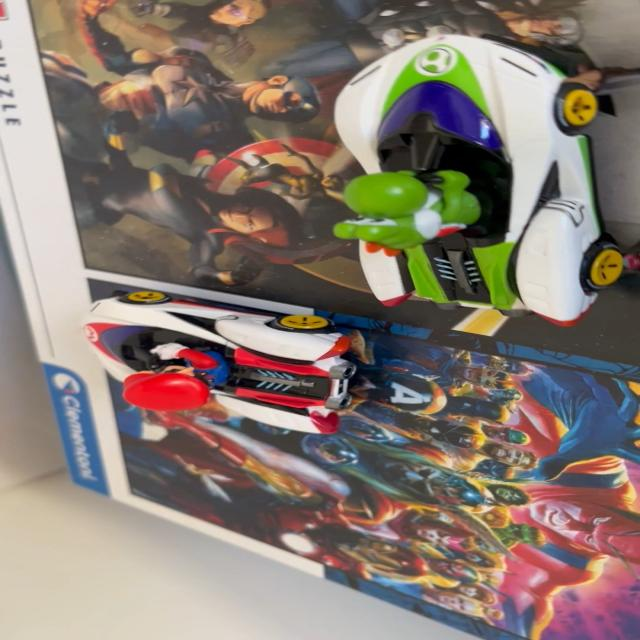mario: (54, 282, 394, 444)
yoshi: (298, 10, 637, 355)
